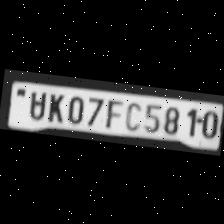0: (197, 106, 220, 140), (62, 92, 86, 124)
1: (180, 104, 202, 138)
5: (139, 100, 163, 132)
7: (82, 94, 104, 127)
8: (158, 103, 182, 135)
C: (120, 98, 144, 132)
F: (100, 96, 122, 130)
K: (42, 90, 66, 124)
U: (23, 87, 48, 120)
